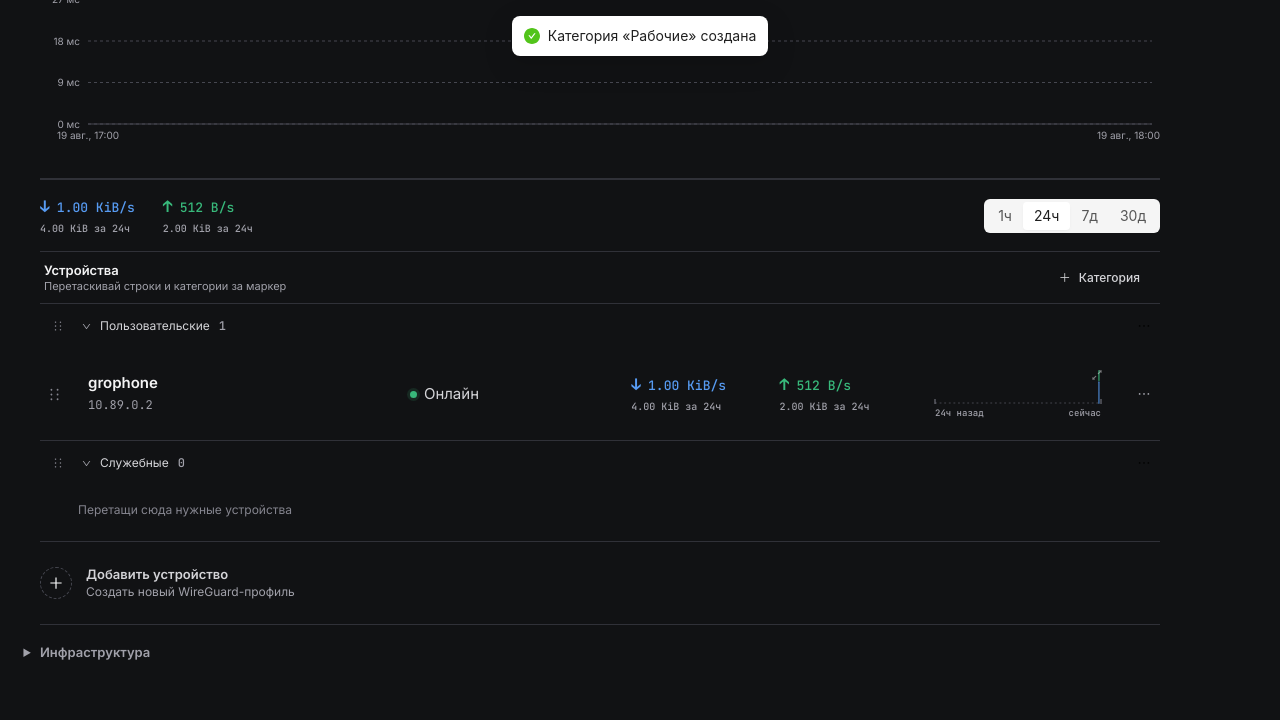
Test case: WireGuardPage › renames a peer and moves it to another category
The image size is (1280, 720).
(page scrolled)
Click the button named "Действия grophone": (1144,394) [1128,378,1160,410]
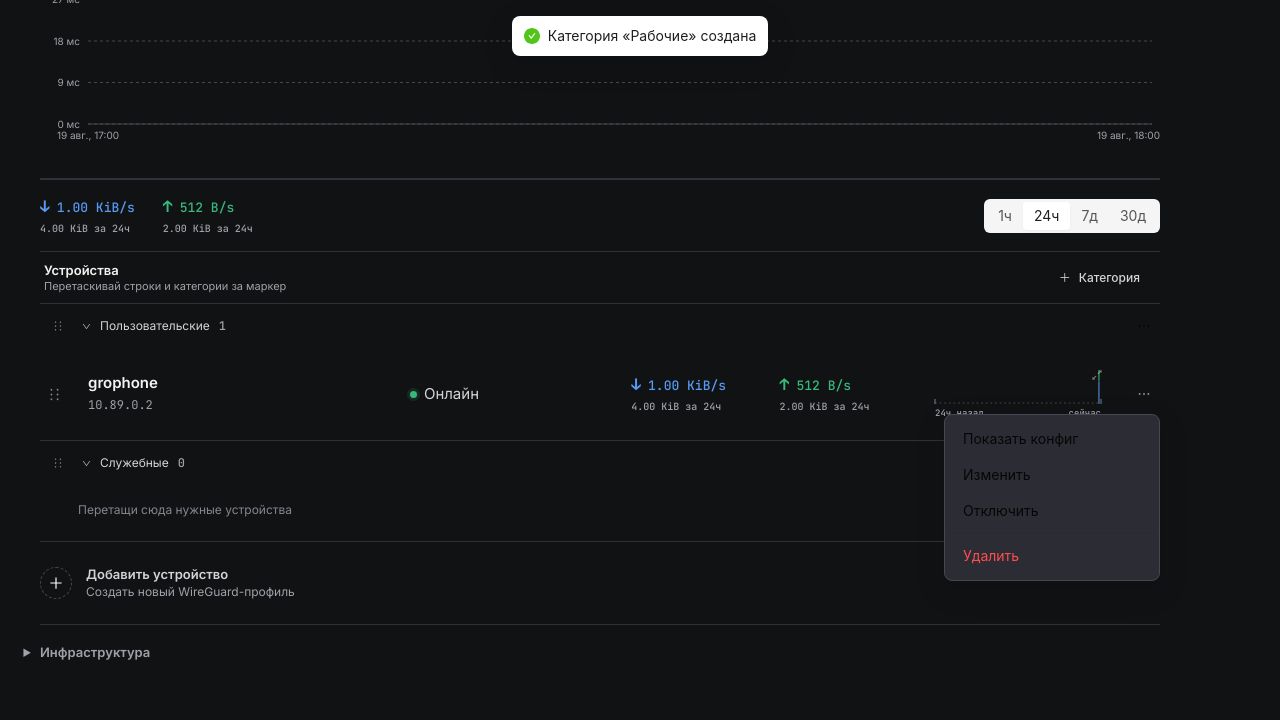
Click the menu item "Изменить": (997,474) [963,466,1030,483]
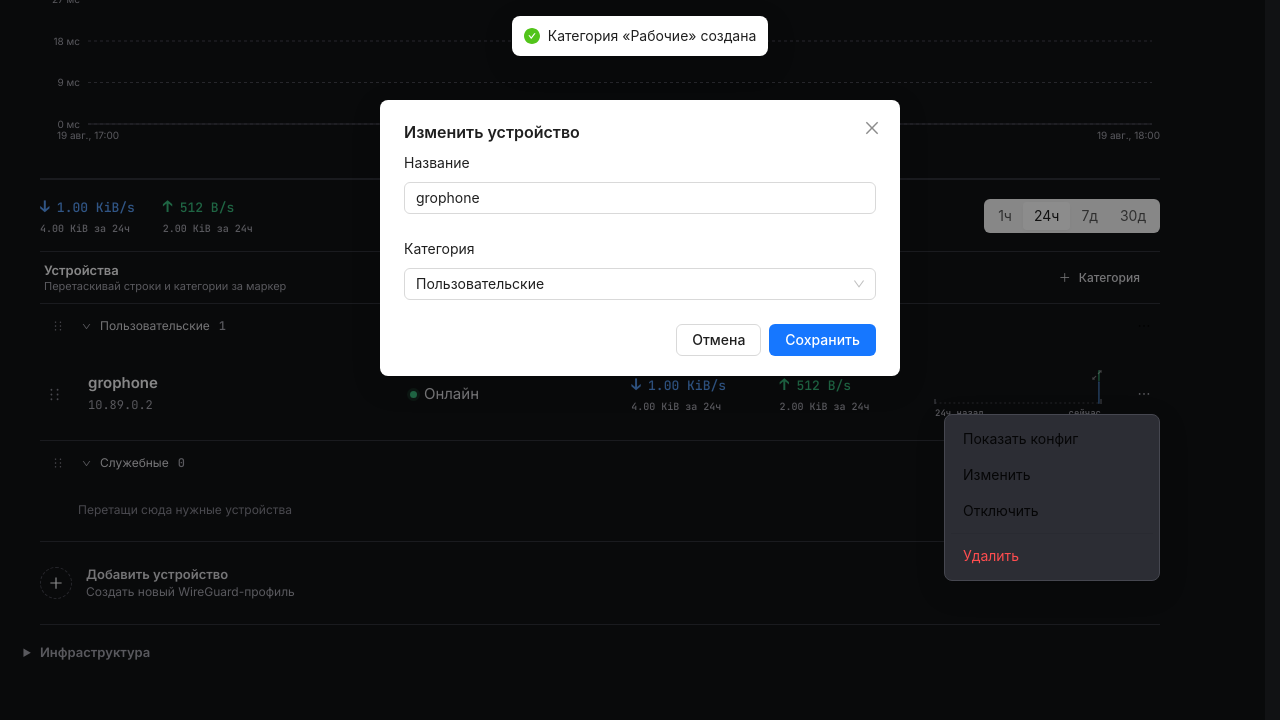
Replace the text in the field labelled "Название" with "Main phone": (640,198) [404,182,876,214]
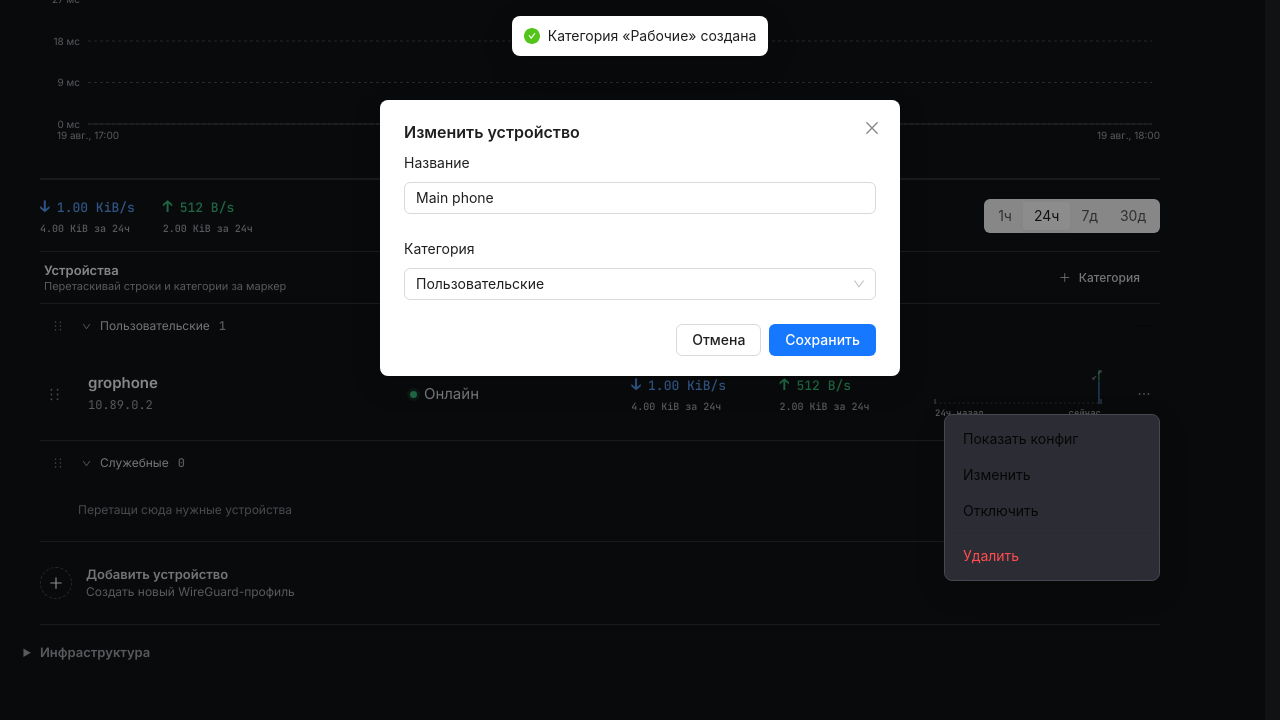
Press the mouse on the dropdown labelled "Категория": (446,249) [404,238,489,260]
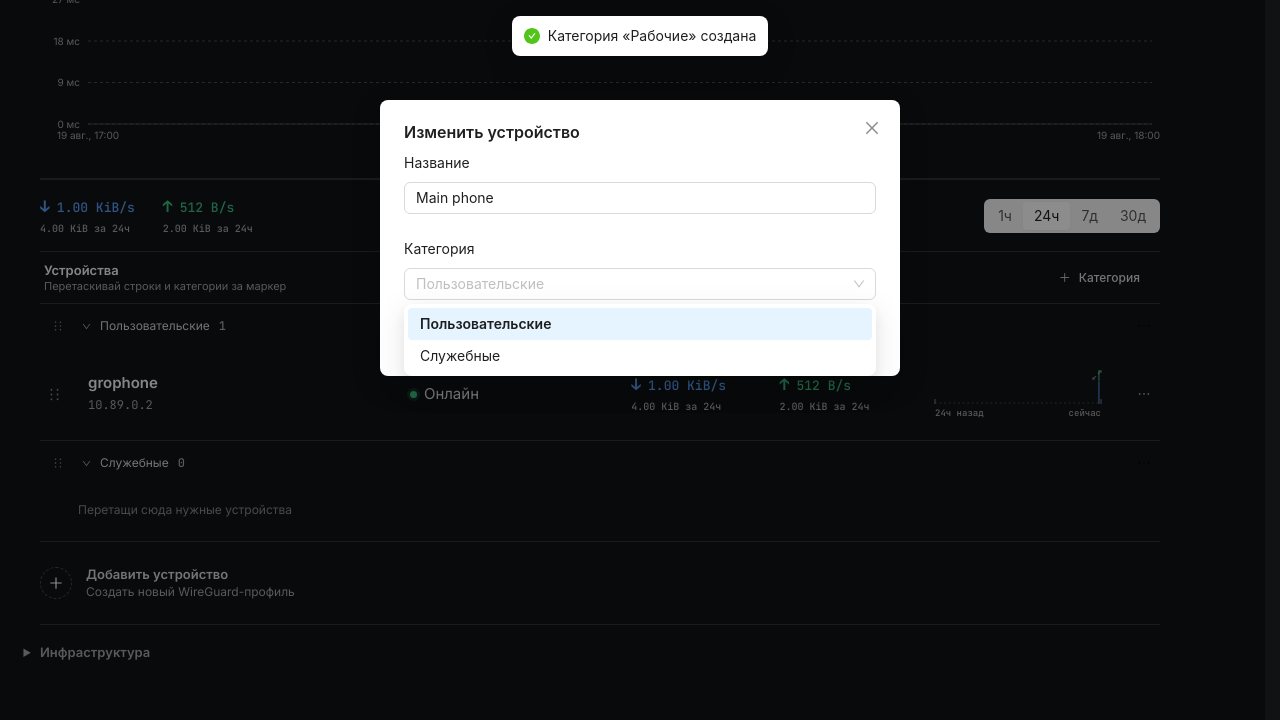
Result: the element titled "Служебные" is shown
Click the element titled "Служебные": (460,356) [420,347,500,364]
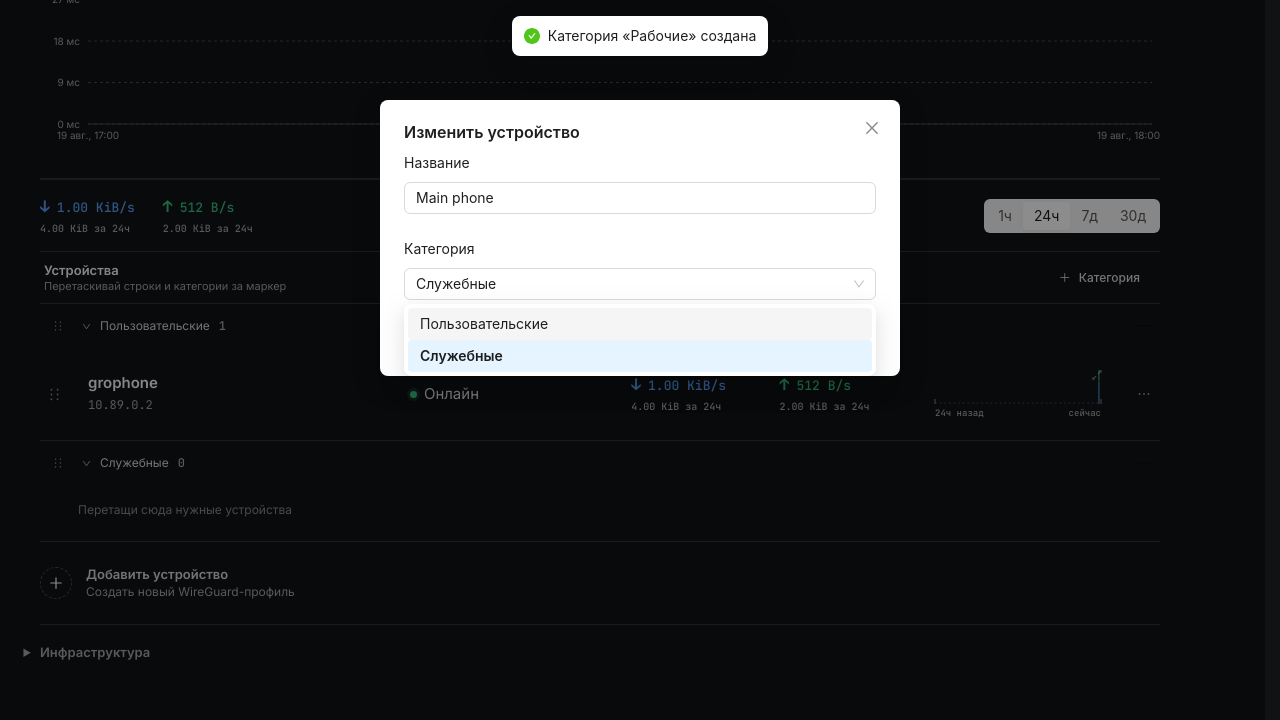
Click the button "Сохранить": (823,340) [769,324,876,356]
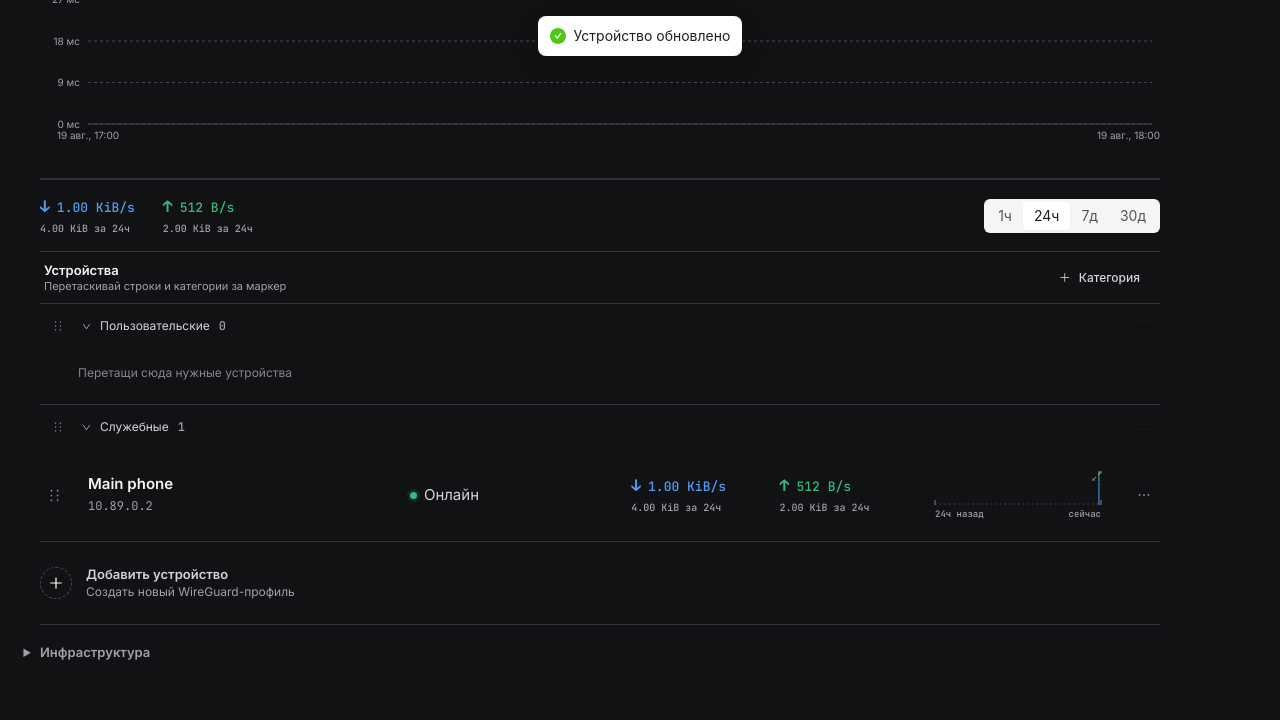
Result: the text "Main phone" is shown at [88,475,173,494]
